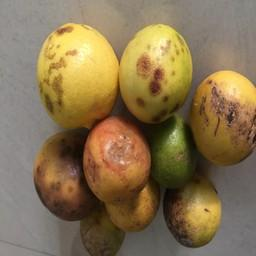Bad_lime: (38, 22, 118, 122), (203, 61, 256, 169), (31, 130, 93, 222), (77, 190, 157, 256), (88, 116, 149, 197), (136, 33, 194, 114), (170, 187, 223, 246)
